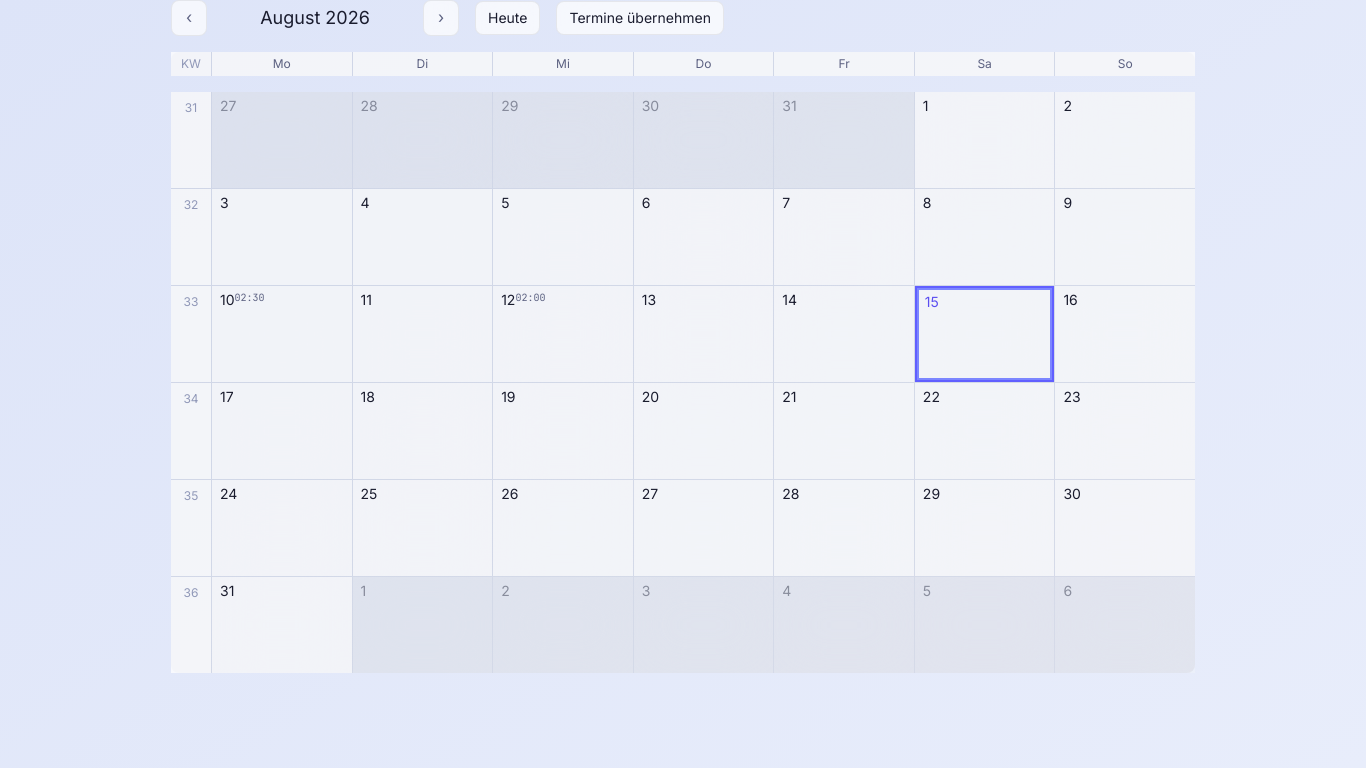
Test: CalendarView — day selection › Escape closes the drawer
This screenshot has width=1366, height=768.
Step 1. Click the cell "10 02:30" → click(282, 334), box [212,286,352,382]
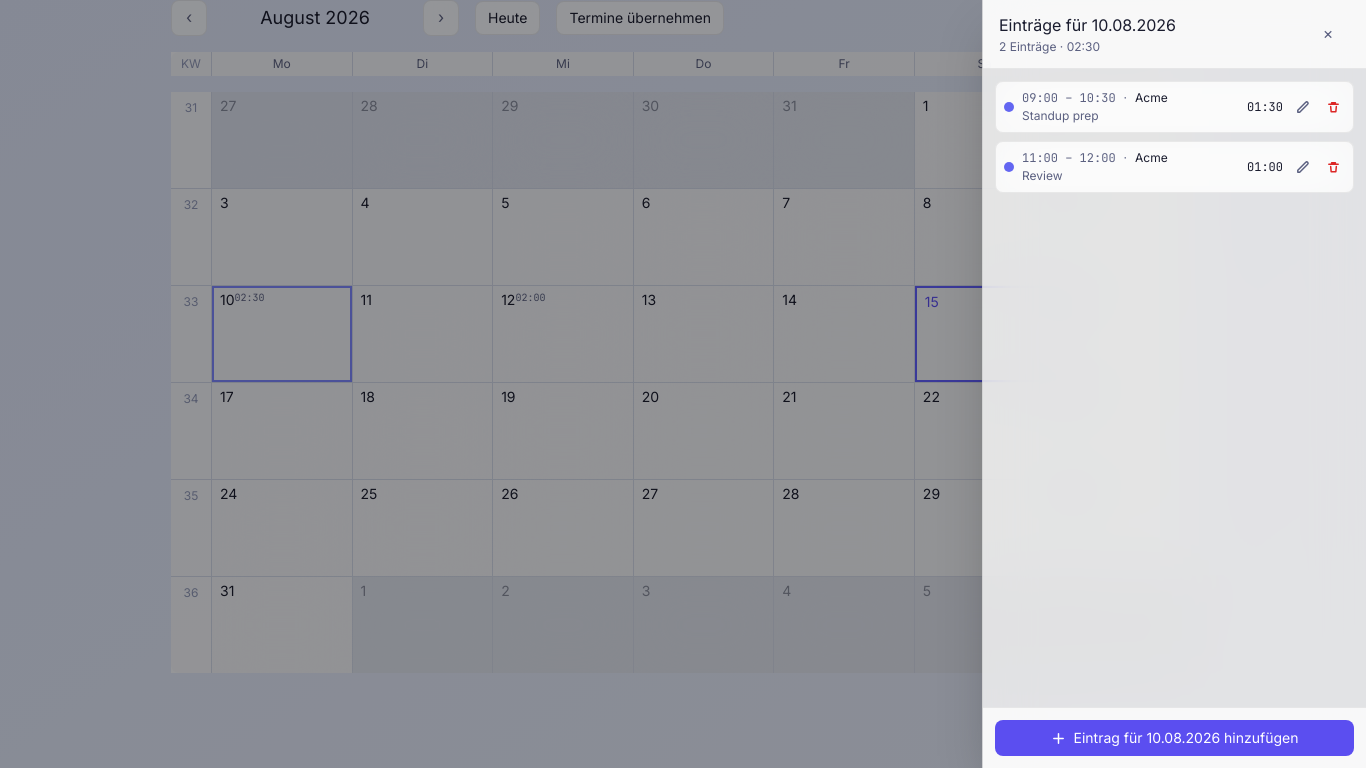
Expected: the dialog is shown, [982,0,1365,767]
Step 2. Press Escape
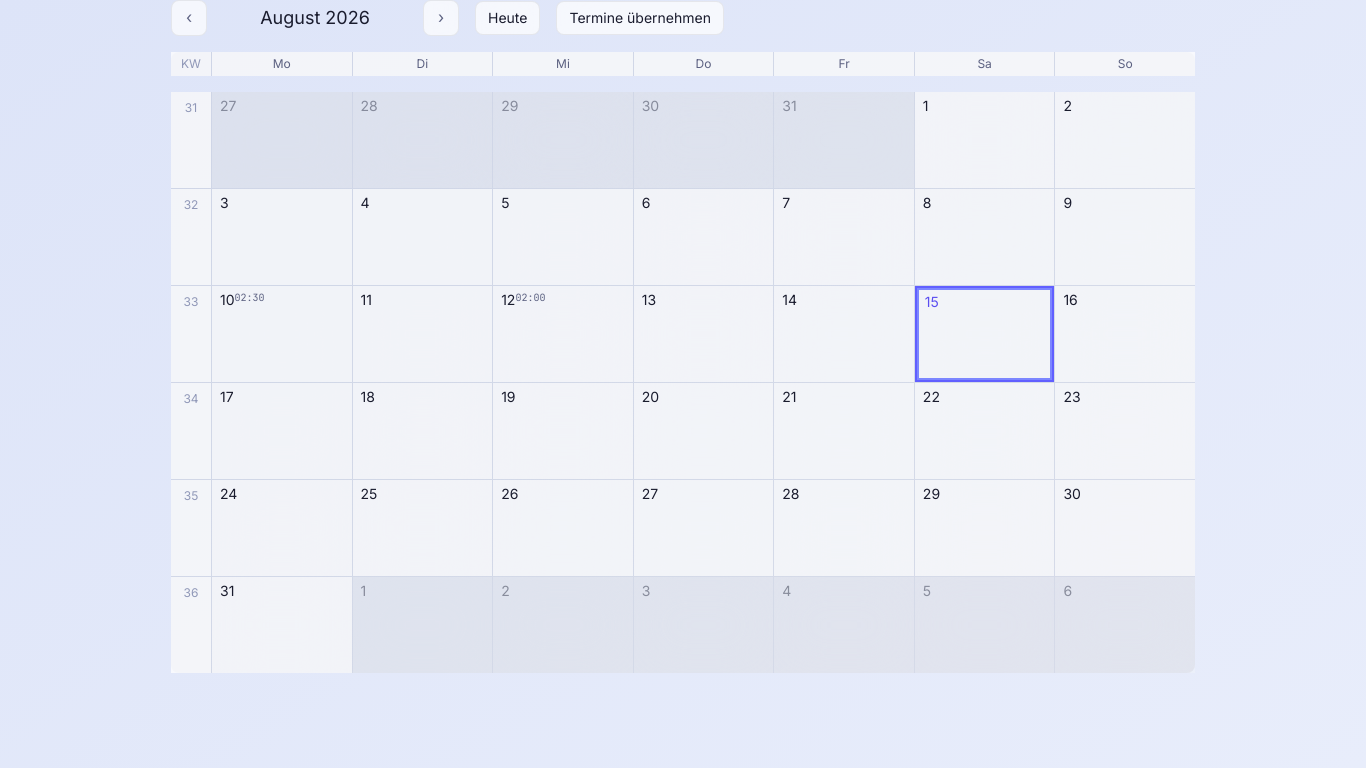
Expected: the dialog is gone
